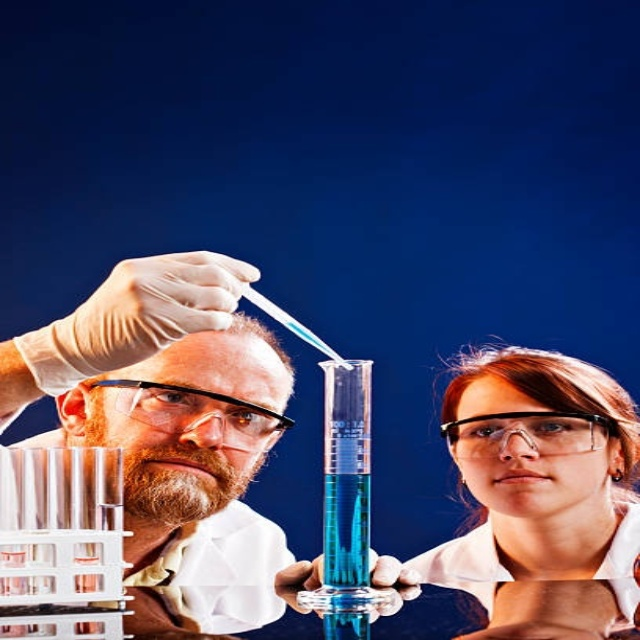Gafas: (89, 382, 296, 453), (449, 412, 620, 457)
Guantes: (11, 249, 260, 399), (273, 543, 427, 587)
Sin_mascara: (132, 453, 231, 504), (486, 466, 565, 508)
